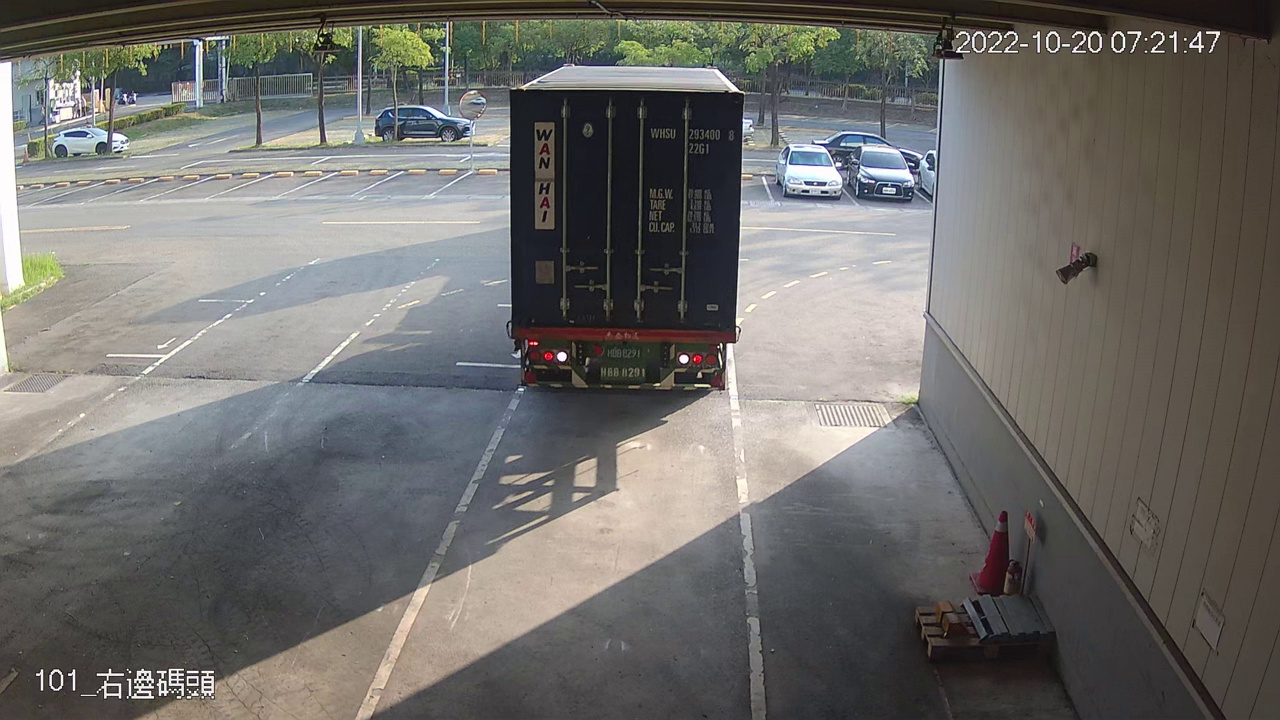container: (646, 119, 737, 160)
